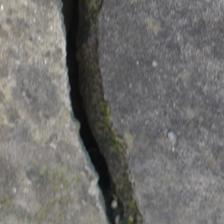Crack: (27, 4, 122, 217)
